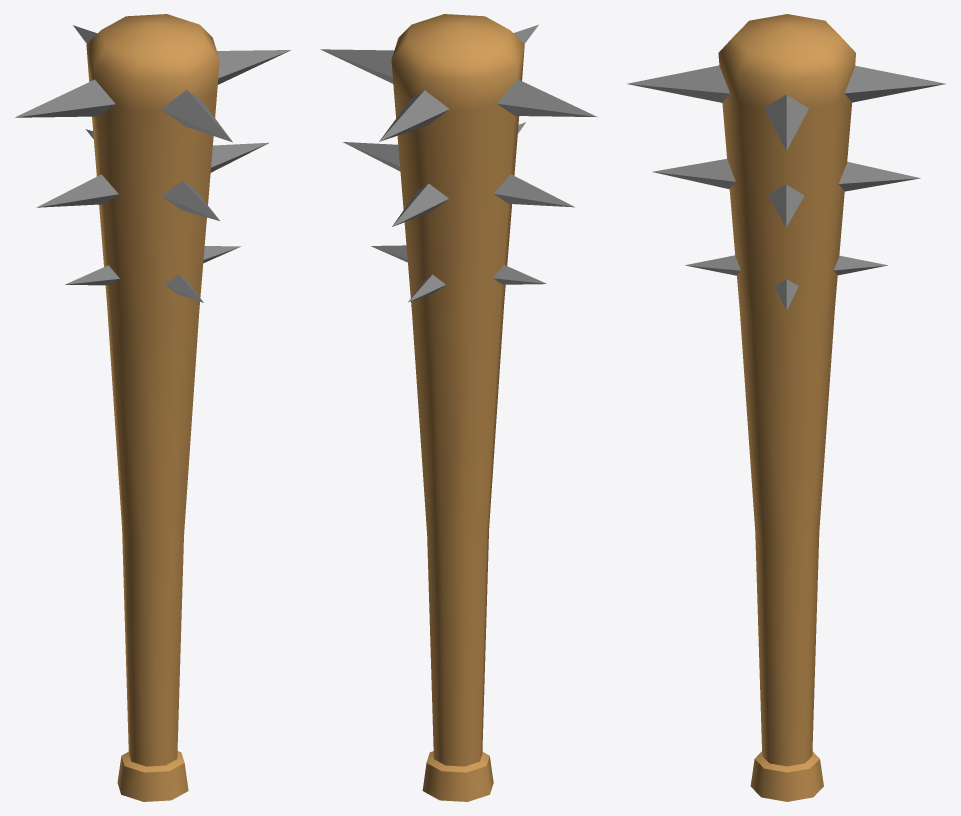
Rendered from Mace.fbx.
The picture shows the model from 3 angles, left to right: view 1: azimuth 30°, elevation 25°; view 2: azimuth 150°, elevation 25°; view 3: azimuth 270°, elevation 25°; orthographic projection.
Parts seen in each view (by area): view 1: Mace; view 2: Mace; view 3: Mace.
Part boxes in pixels (x1=…): Mace: x1=15, y1=14, x2=290, y2=801; Mace: x1=320, y1=14, x2=597, y2=801; Mace: x1=627, y1=14, x2=945, y2=801.
Bounding box in the file's own units: 91.23 × 239 × 91.23.
